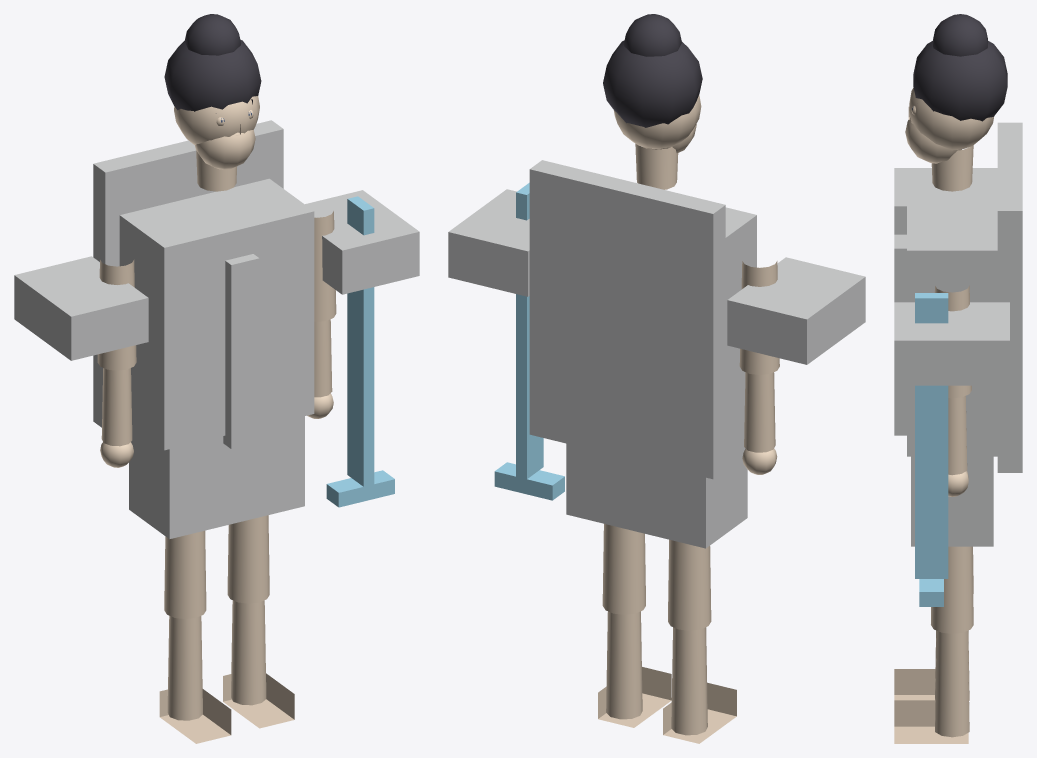
Rendered from body.glb.
3 views of the same model, side by side, from view 1: azimuth 30°, elevation 25°; view 2: azimuth 150°, elevation 25°; view 3: azimuth 270°, elevation 25° (orthographic). The views are drawn at different scales.
Parts seen in each view (by area): view 1: Cloth, Skin, Metal, Hair; view 2: Cloth, Skin, Hair, Metal; view 3: Cloth, Skin, Metal, Hair.
Part boxes in pixels (<box>): Cloth: <box>14,120,419,539</box>; Skin: <box>97,96,336,743</box>; Metal: <box>326,196,394,507</box>; Hair: <box>164,14,261,113</box>; Cloth: <box>448,160,865,548</box>; Skin: <box>598,95,779,743</box>; Hair: <box>603,14,702,127</box>; Metal: <box>494,182,564,500</box>; Cloth: <box>894,122,1022,546</box>; Skin: <box>894,87,994,743</box>; Metal: <box>915,293,948,606</box>; Hair: <box>913,14,1007,121</box>.
Size of the model in its own units: 0.9904 by 1.88 by 0.31.
